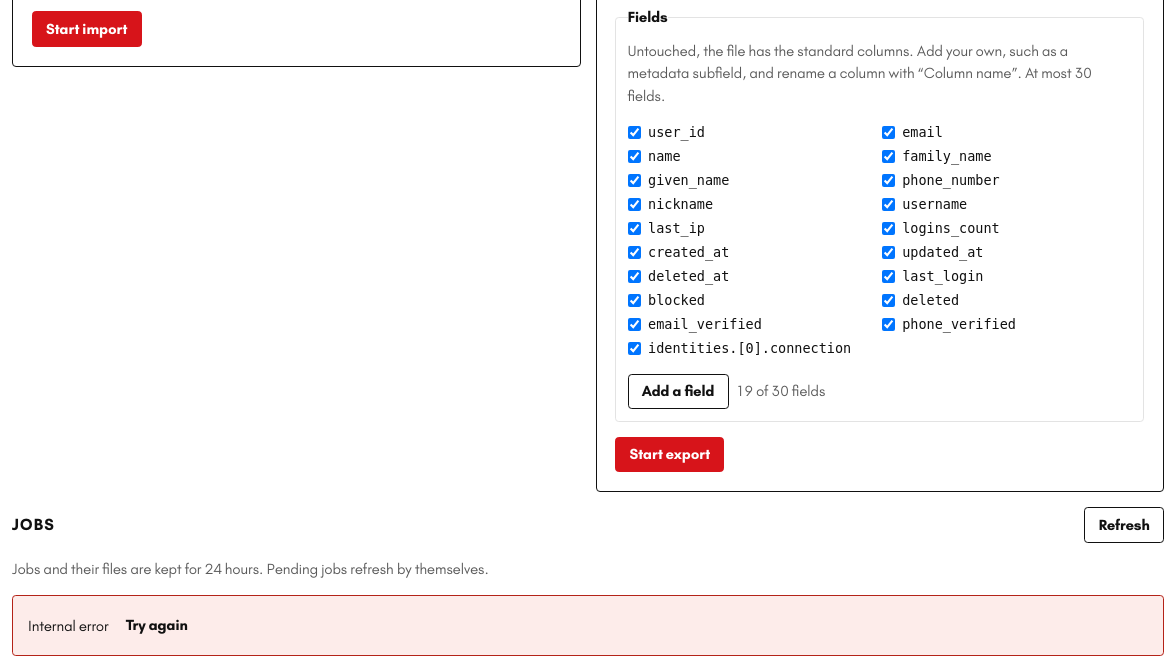
Test: jobs list › shows an error with a retry that works
(page scrolled)
Check: the message "Internal error Try again" is shown, box [12,595,1164,656]
Click the button "Try again" at [157, 625], box [112,608,202,643]
(page scrolled)
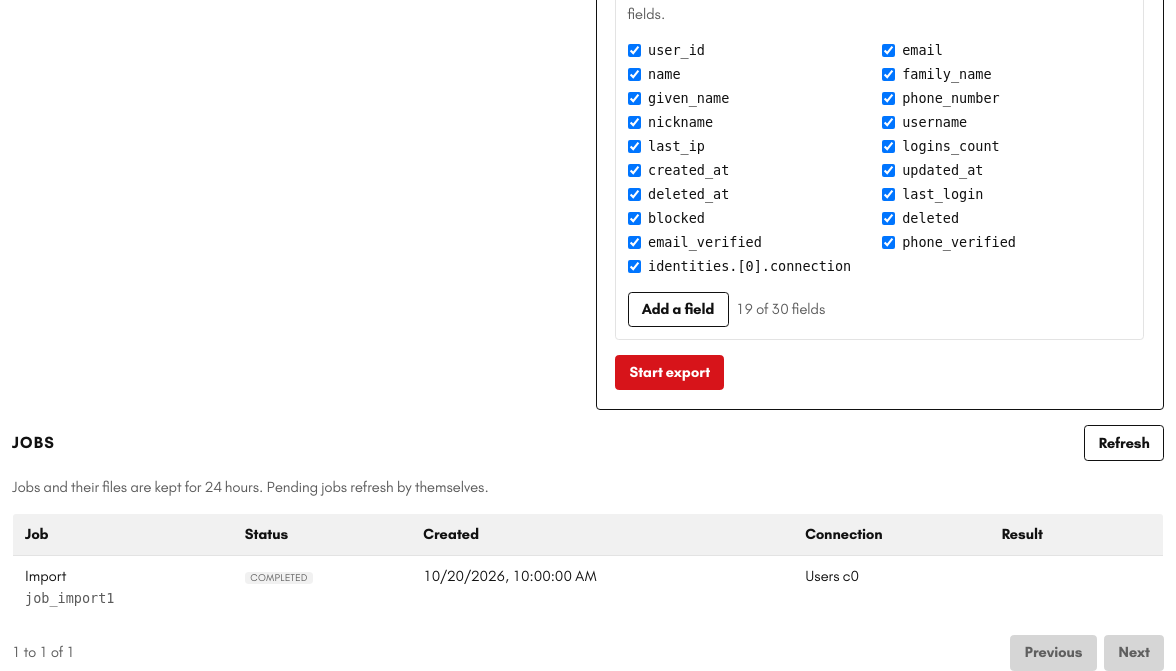
Check: the row "Importjob_import1 Completed 10/20/2026, 10:00:00 AM Users c0" is shown, box [12,555,1164,619]
